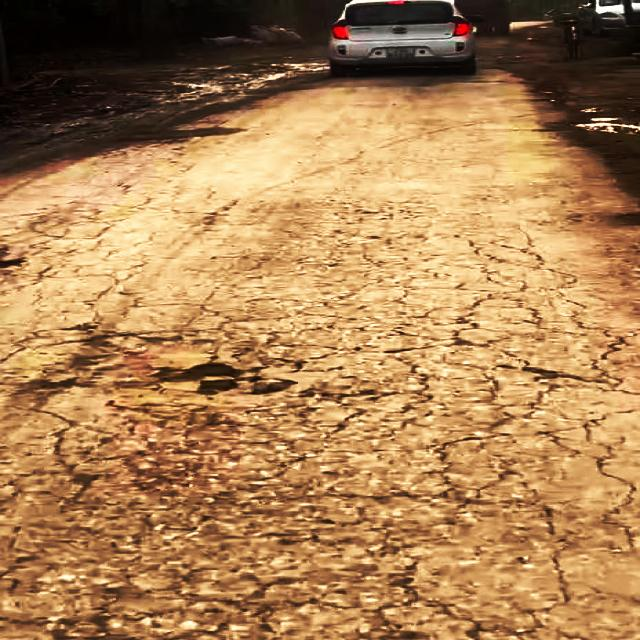pothole: (152, 360, 288, 398)
